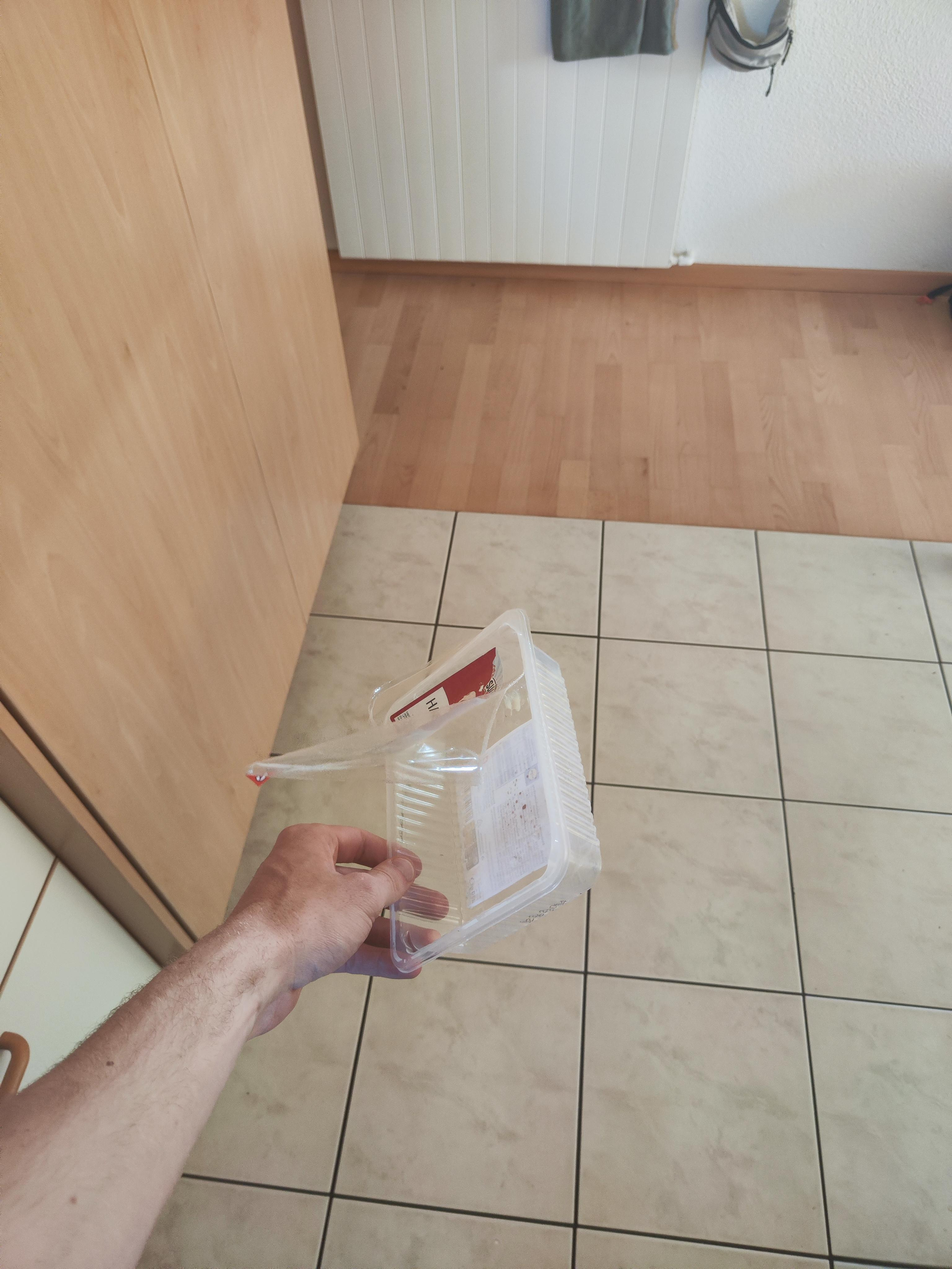Plastic: (248, 604, 595, 984)
